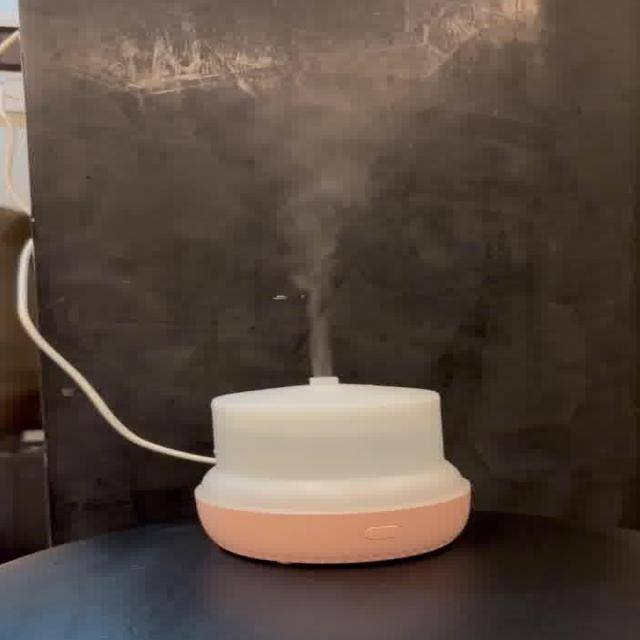fire: (236, 90, 410, 371)
